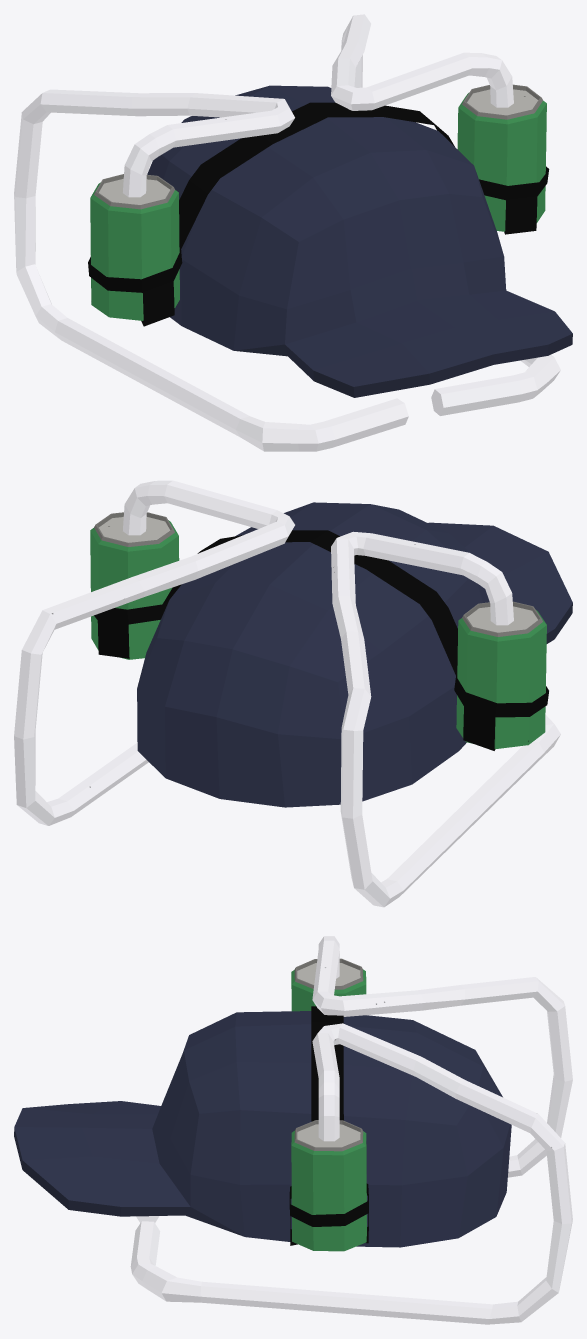
The model's file is GorraBebida1.glb.
The picture shows the model from 3 angles, top to bottom: view 1: azimuth 30°, elevation 25°; view 2: azimuth 150°, elevation 25°; view 3: azimuth 270°, elevation 25°; orthographic projection. The views are drawn at different scales.
Visible parts, largest first — view 1: Helmet; view 2: Helmet; view 3: Helmet.
Part boxes in pixels (<box>): Helmet: <box>14,14,572,451</box>; Helmet: <box>14,480,572,907</box>; Helmet: <box>14,936,572,1324</box>.
Size of the model in its own units: 0.9601 by 0.5636 by 1.17.
Materials: 1 (1 with a texture image).
